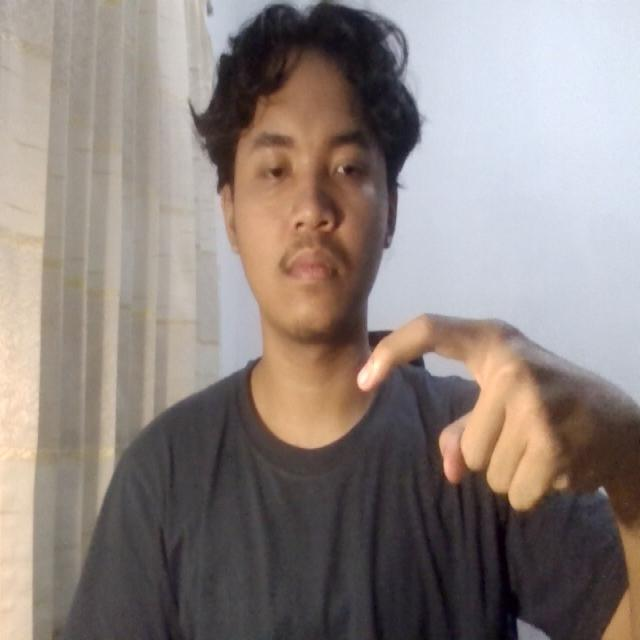N: (343, 300, 621, 523)
